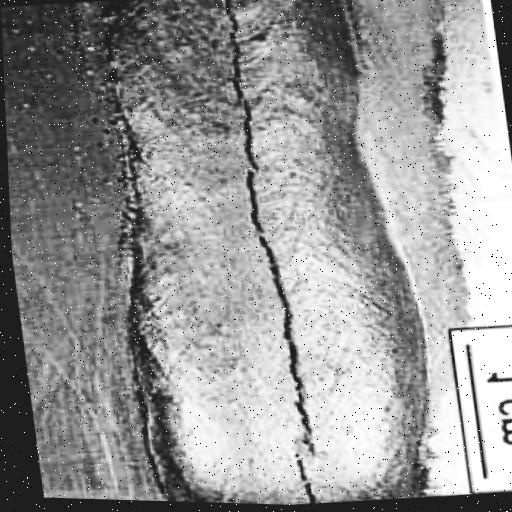crack: (213, 0, 329, 506)
